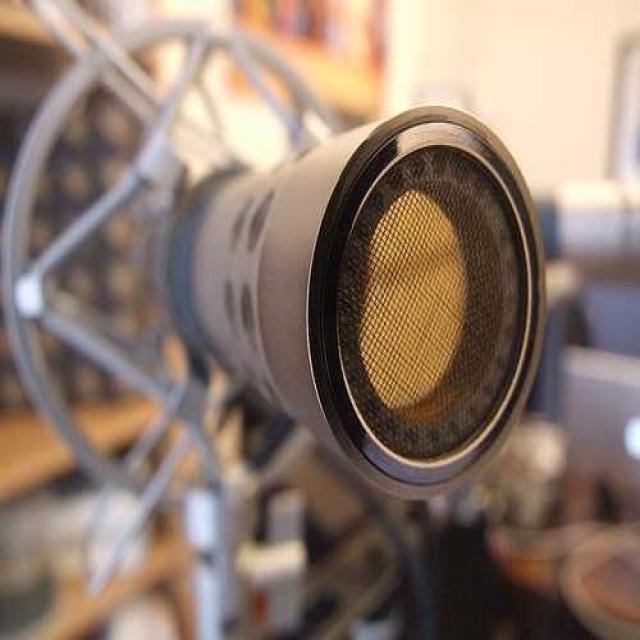microphone: (188, 99, 548, 501)
